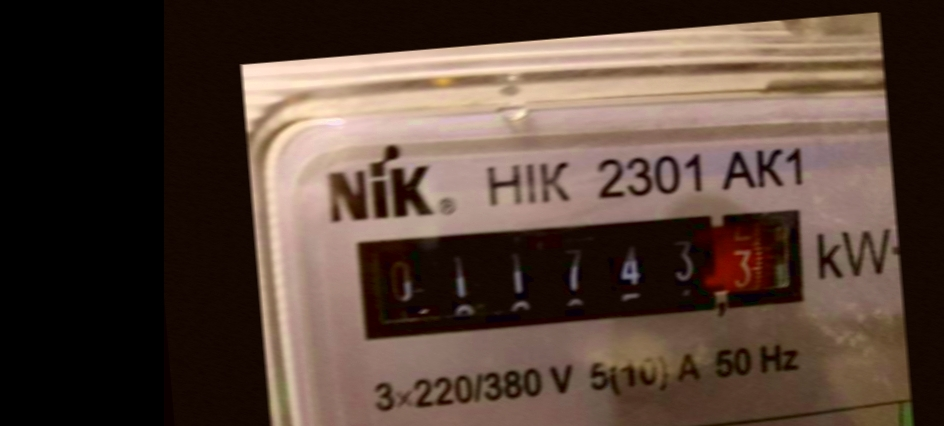0: (385, 257, 418, 306)
1: (505, 248, 530, 298), (450, 253, 471, 303)
3: (669, 236, 700, 286), (729, 246, 757, 292)
4: (615, 240, 646, 290)
7: (561, 246, 589, 295)
screen: (341, 196, 815, 352)
